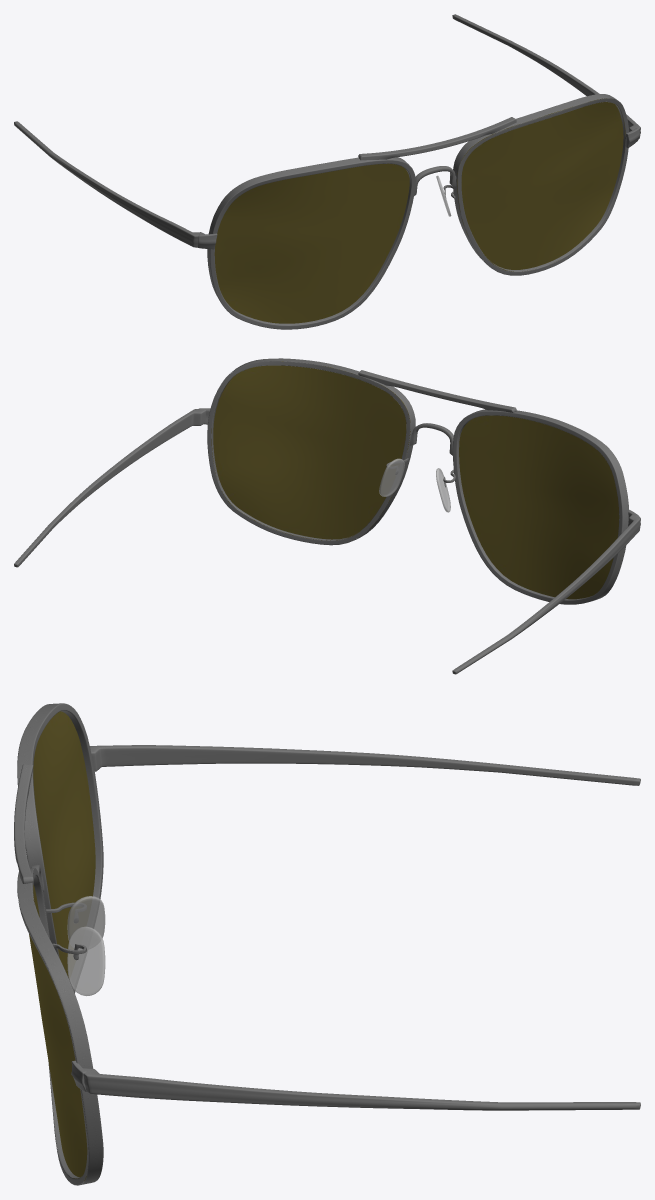
Rendered from CHROMANCE_app_GLB.glb.
3 views of the same model, one above another, from view 1: azimuth 30°, elevation 25°; view 2: azimuth 150°, elevation 25°; view 3: azimuth 270°, elevation 25° (orthographic). The views are drawn at different scales.
Visible parts, largest first — view 1: chrmOBJ; view 2: chrmOBJ; view 3: chrmOBJ.
Boxes of the visible parts, x1,y1,x2,y2 form: chrmOBJ: (14,14,640,329); chrmOBJ: (14,358,640,674); chrmOBJ: (14,703,640,1185).
Bounding box in the file's own units: 0.1572 × 0.0547 × 0.1203.
3 materials, 3 textured.
